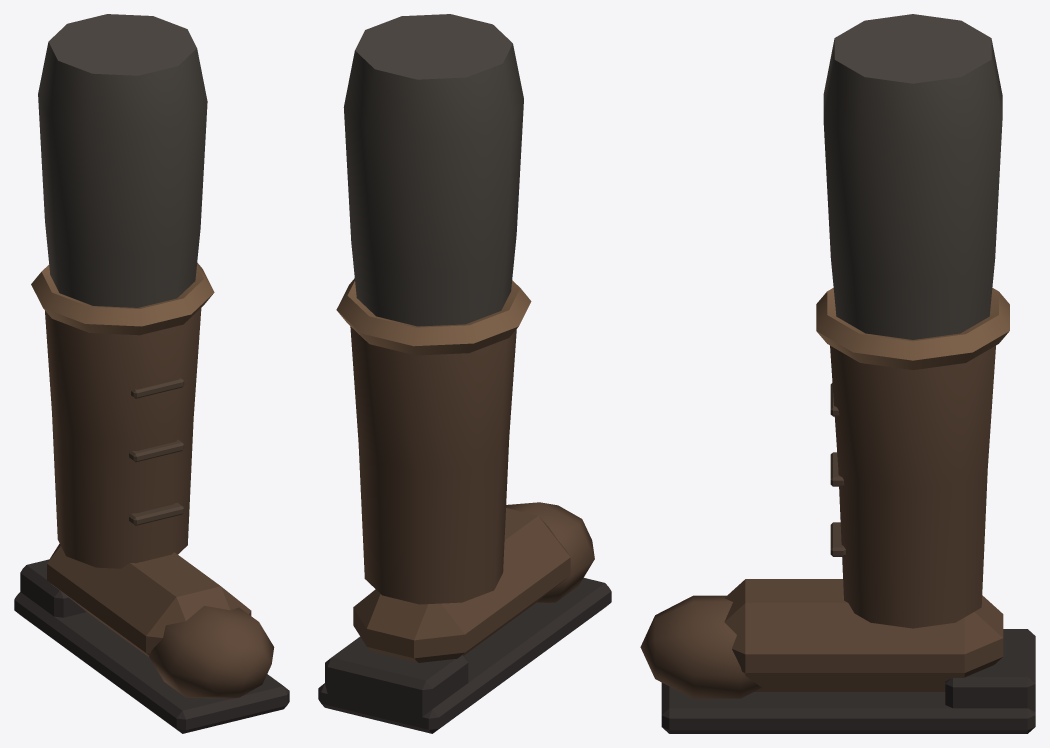
The model's file is kick_leg.glb.
The picture shows the model from 3 angles, left to right: view 1: azimuth 30°, elevation 25°; view 2: azimuth 150°, elevation 25°; view 3: azimuth 270°, elevation 25°; orthographic projection. The views are drawn at different scales.
Parts seen in each view (by area): view 1: kick_leg; view 2: kick_leg; view 3: kick_leg.
Part boxes in pixels (x1,y1,x2,y2): kick_leg: (14,14,289,733); kick_leg: (318,14,611,733); kick_leg: (640,14,1035,733).
Bounding box in the file's own units: 0.158 × 0.563 × 0.3064.
